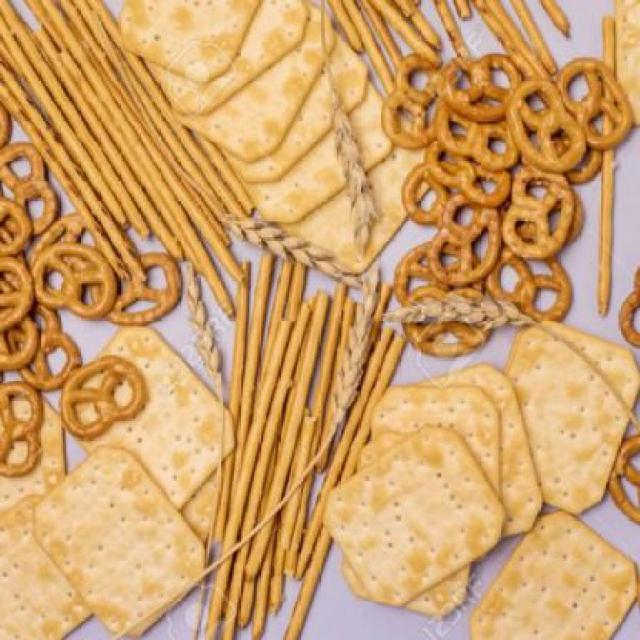Salatini packaged: (19, 23, 639, 635)
